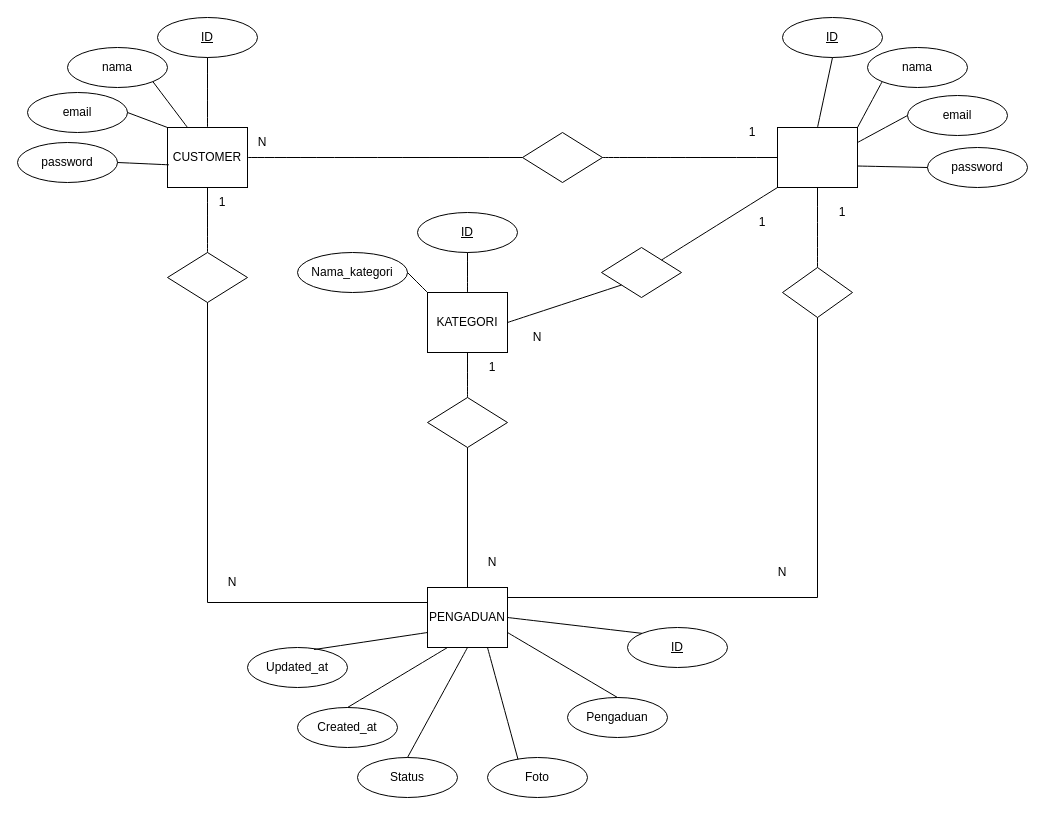
This 1045x815 diagram has some shape labels left out. The centre of each missing label's shape, as x and y in pixels:
"ADMIN" belongs at [817,157].
"digolongkan" belongs at [467,422].
"membuat" belongs at [207,277].
"menangani" belongs at [817,292].
"mengelola kategori" belongs at [641,272].
"mengelola user" belongs at [562,157].
